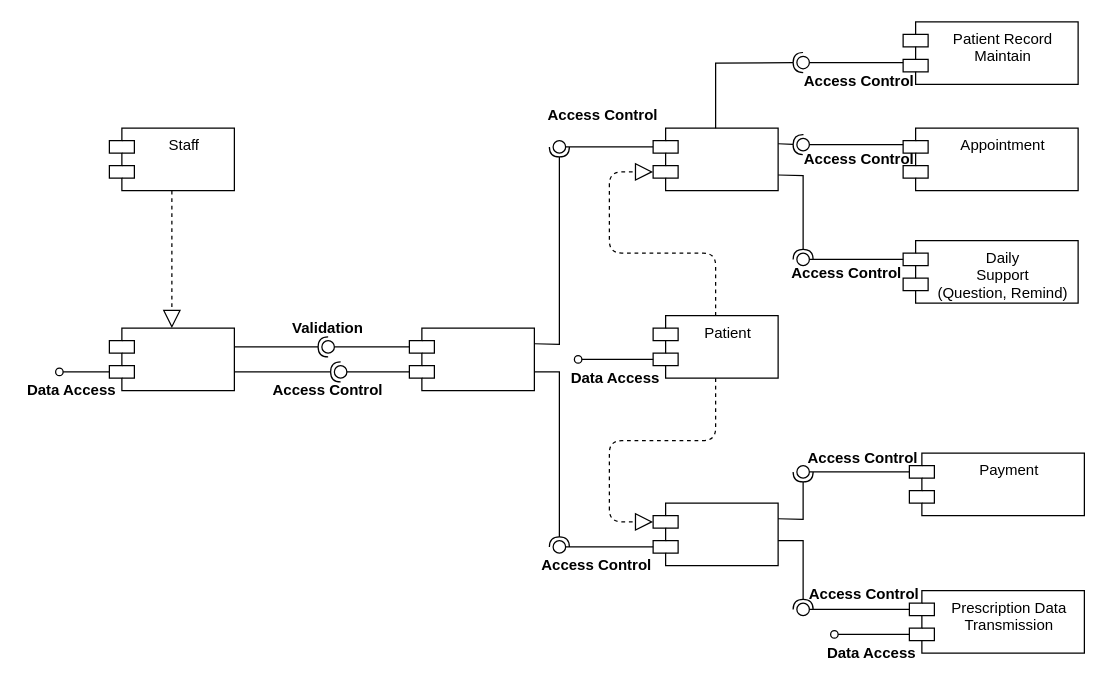
Image size: 1106x688. Some labels were removed from this diagram. The centre of each missing label's shape, as x and y in pixels:
Check In: point (715, 159)
Check Out: point (715, 534)
reception: point (471, 359)
receptionist: point (171, 359)
